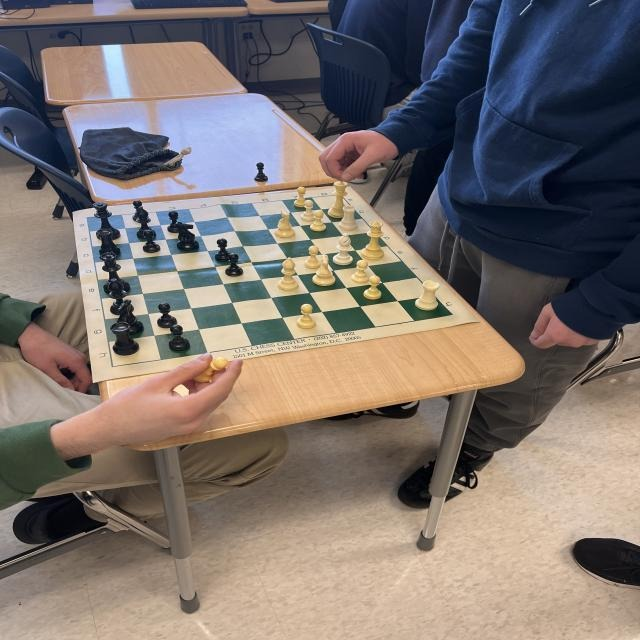black-bishop: (107, 278, 133, 314), (136, 205, 156, 238)
black-king: (92, 201, 120, 240)
black-knight: (115, 298, 145, 333), (176, 222, 199, 250)
black-pawn: (168, 325, 191, 351), (156, 303, 178, 329), (224, 253, 243, 277), (214, 238, 232, 262), (143, 229, 161, 252), (167, 210, 182, 233), (132, 201, 148, 221), (255, 162, 269, 182)
black-queen: (98, 252, 130, 292)
black-rook: (110, 321, 138, 354), (95, 229, 120, 257)
white-bishop: (277, 257, 299, 291), (333, 233, 353, 265)
white-king: (326, 180, 349, 219)
white-knight: (312, 253, 336, 286), (274, 209, 296, 238)
white-pawn: (194, 357, 228, 383), (295, 303, 316, 329), (362, 276, 381, 300), (351, 260, 369, 284), (304, 245, 321, 269), (309, 209, 326, 231), (300, 199, 316, 221), (293, 186, 308, 208)
white-queen: (359, 220, 384, 259)
white-rook: (415, 280, 440, 311), (338, 205, 358, 231)
